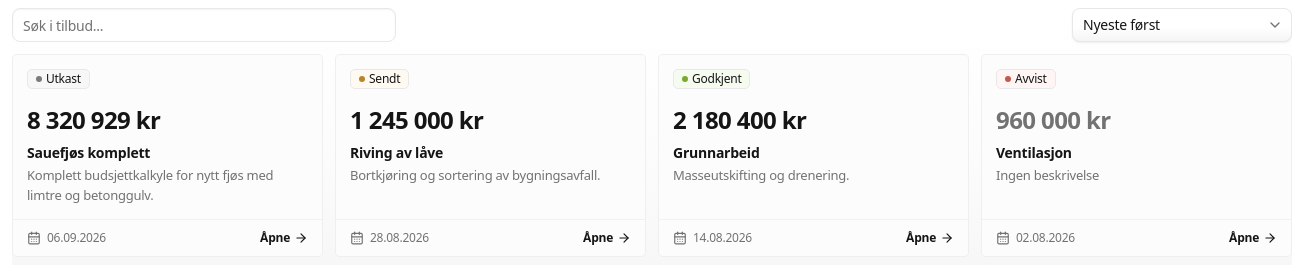
Test: Tilbud-fanen – sortering › sorterer «Beløp lav til høy»
Click the dropdown at {"x": 1182, "y": 25}, box [1072,8,1292,42]
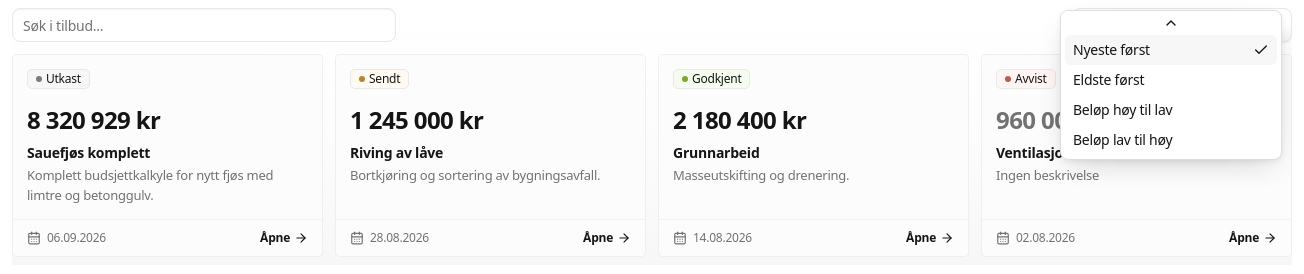
Click the option "Beløp lav til høy" at {"x": 1123, "y": 140}, box [1073,130,1172,149]
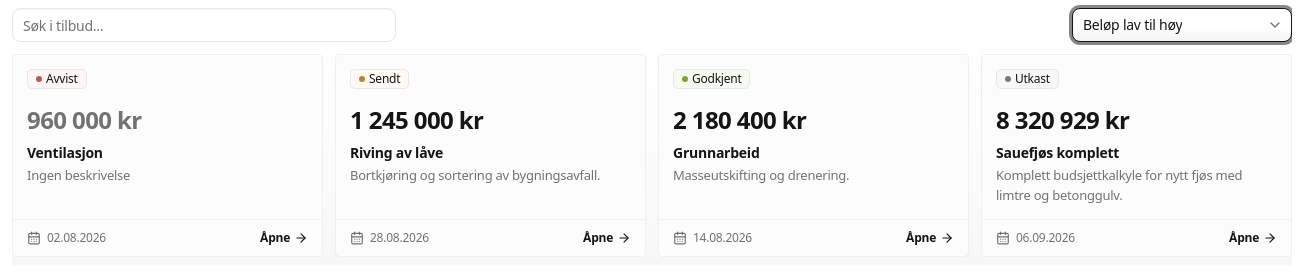
Expected: the dropdown reads "Beløp lav til høy", [1072,8,1292,42]
